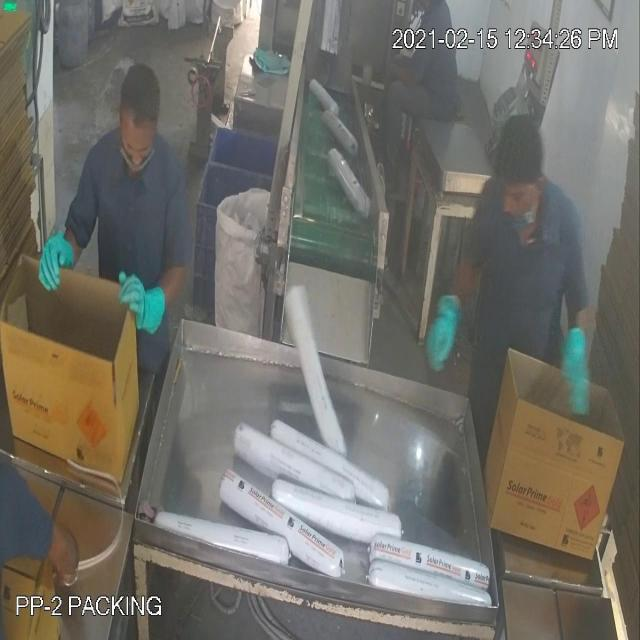Gloves: (43, 92, 577, 536)
